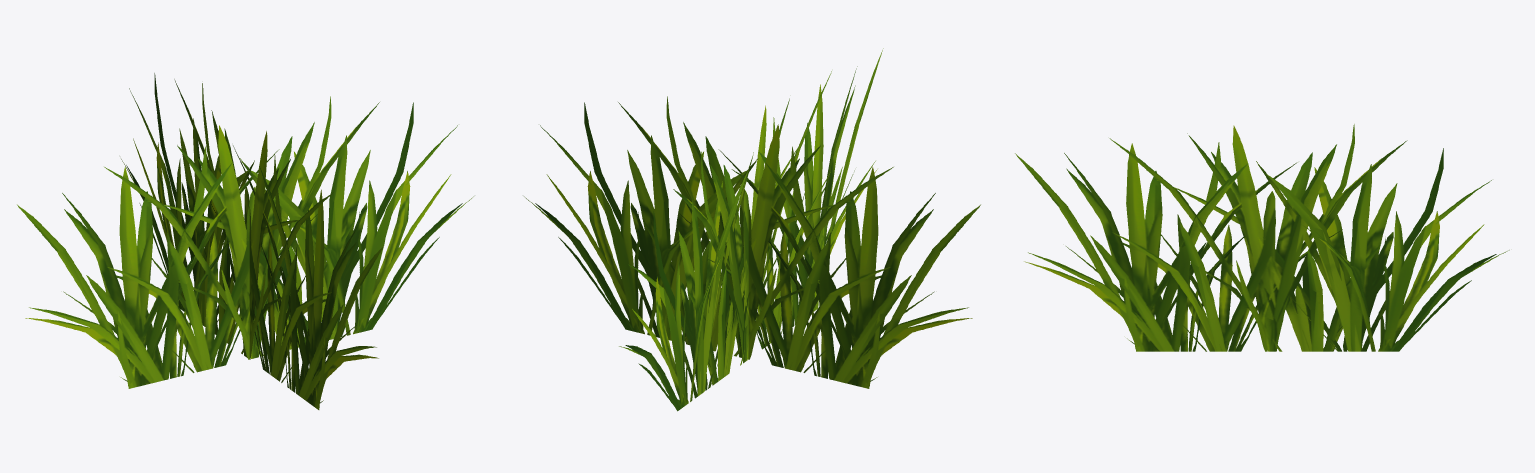
Rendered from Grass_1.glb.
The picture shows the model from 3 angles, left to right: view 1: azimuth 30°, elevation 25°; view 2: azimuth 150°, elevation 25°; view 3: azimuth 270°, elevation 25°; orthographic projection. The views are drawn at different scales.
Visible parts, largest first — view 1: Plane.001, Plane; view 2: Plane.001, Plane; view 3: Plane.
Part boxes in pixels (x1,y1,x2,y2): Plane.001: (17, 96, 473, 388); Plane: (121, 73, 383, 409); Plane.001: (524, 96, 980, 388); Plane: (619, 48, 883, 411); Plane: (1015, 124, 1509, 351).
Size of the model in its own units: 2 by 1 by 2.
2 materials, 2 textured.
